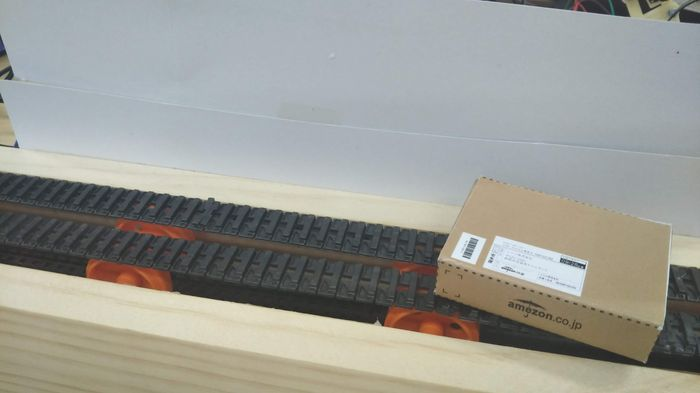box2: (437, 173, 681, 362)
